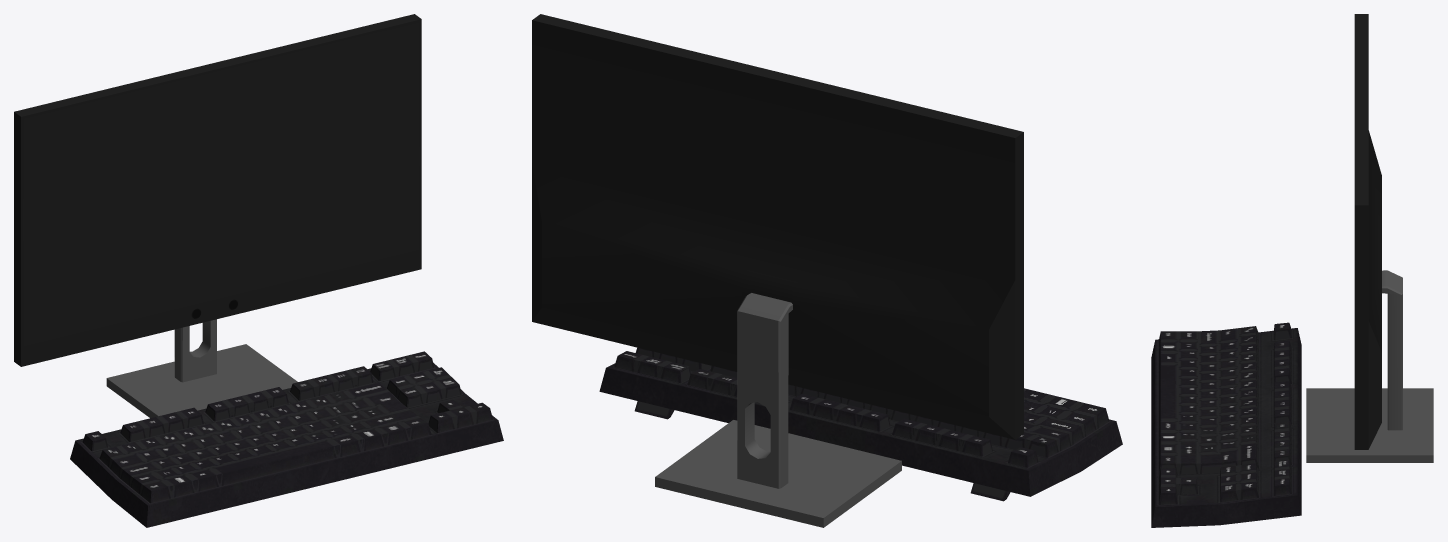
Rendered from ComputerWithKeyboard.glb.
The picture shows the model from 3 angles, left to right: view 1: azimuth 30°, elevation 25°; view 2: azimuth 150°, elevation 25°; view 3: azimuth 270°, elevation 25°; orthographic projection. The views are drawn at different scales.
Visible parts, largest first — view 1: Monitor_LP, Keyboard_01_2; view 2: Monitor_LP, Keyboard_01_2; view 3: Keyboard_01_2, Monitor_LP.
Part boxes in pixels (<box>): Monitor_LP: <box>14,14,421,418</box>; Keyboard_01_2: <box>70,351,503,527</box>; Monitor_LP: <box>532,14,1023,527</box>; Keyboard_01_2: <box>599,347,1122,501</box>; Keyboard_01_2: <box>1151,322,1301,527</box>; Monitor_LP: <box>1306,14,1433,462</box>.
Size of the model in its own units: 0.6333 by 0.5141 by 0.3947.
2 materials, 2 textured.
